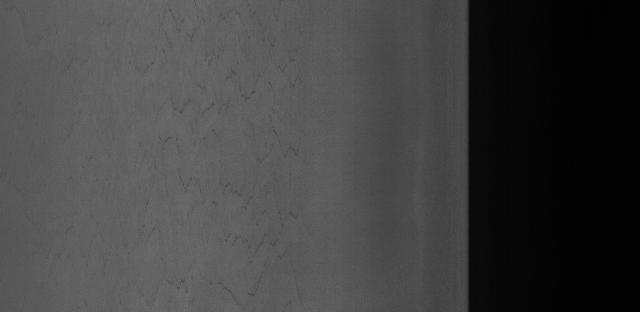silk_spot: (147, 27, 322, 288)
